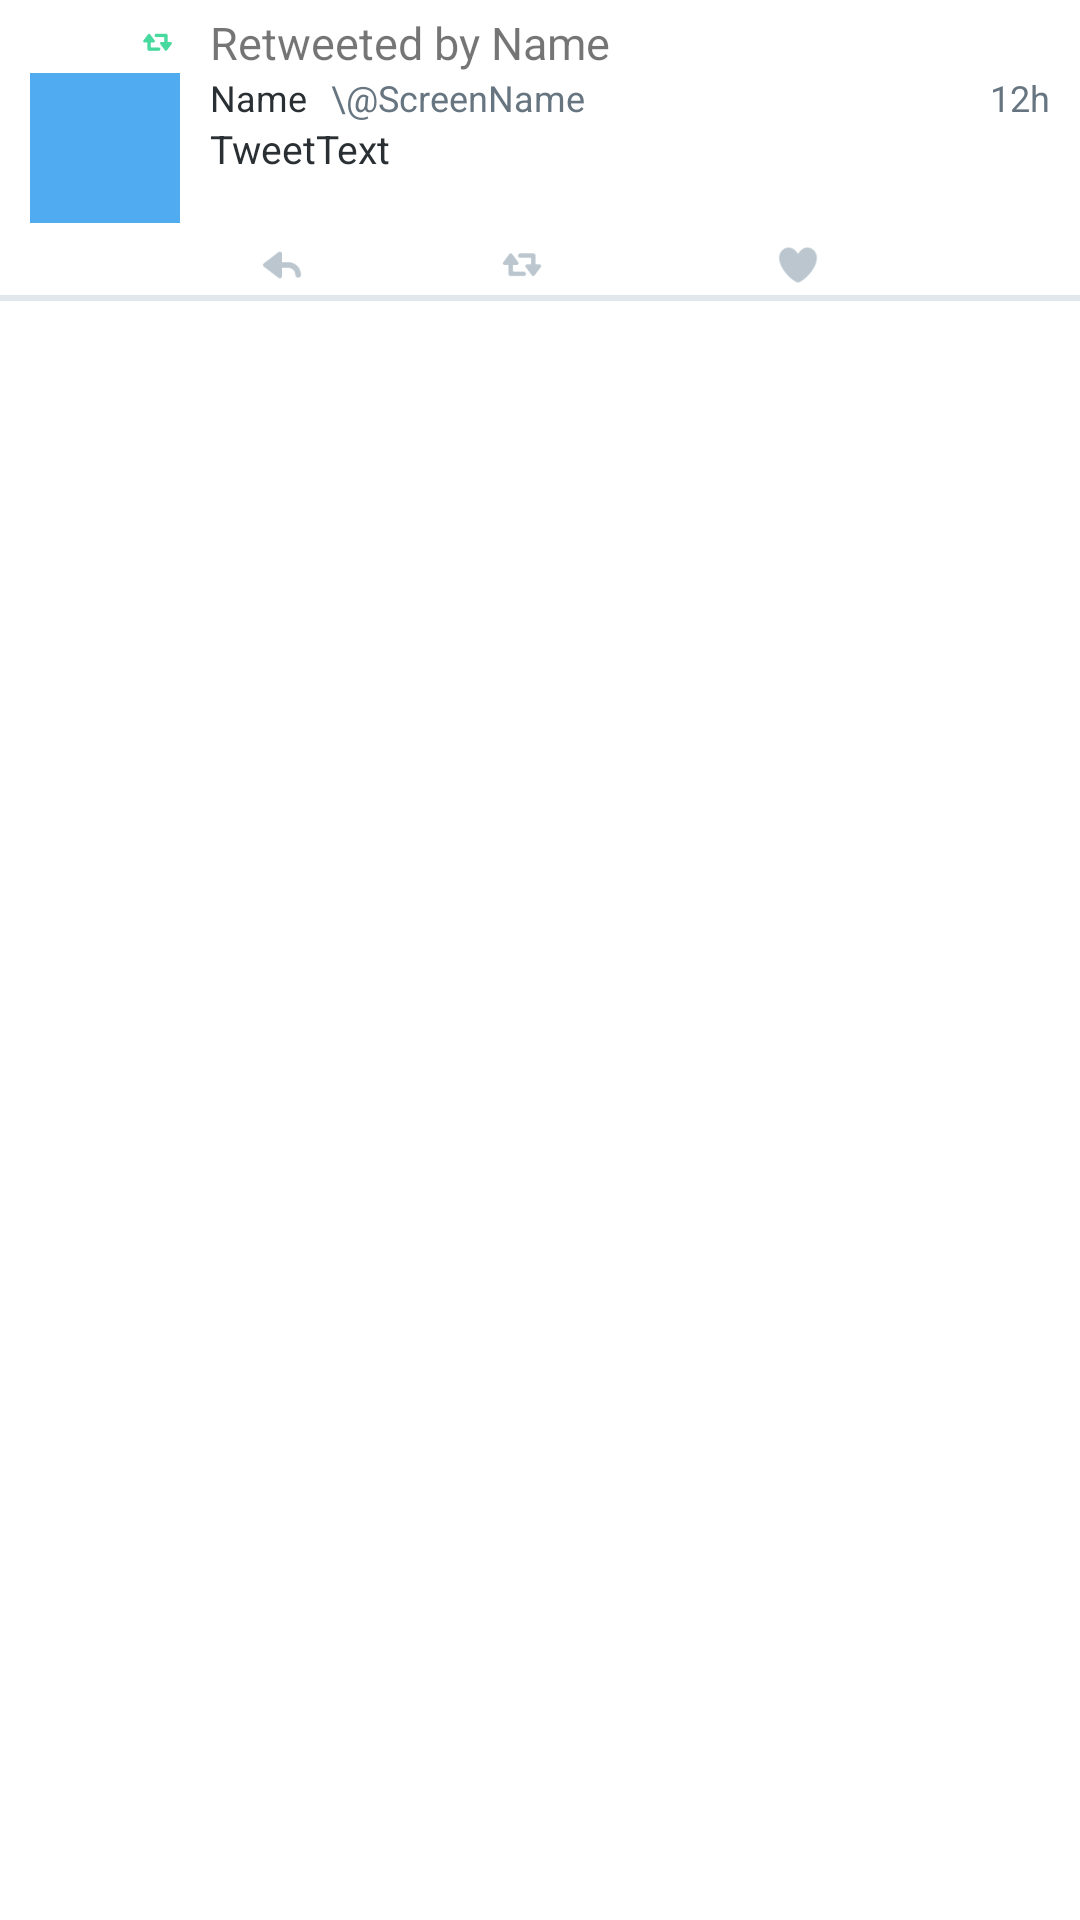

Point at icon controls on the screen. Image size 1080 x 1920, points as point (x, y).
favorite: point (798, 265)
reply: point (282, 265)
retweet: point (522, 264)
